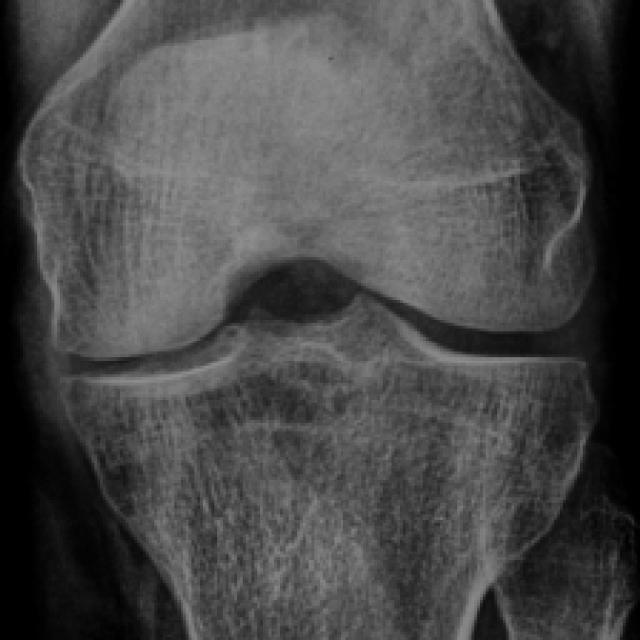femur: (14, 1, 586, 357)
tibia: (56, 294, 589, 637)
